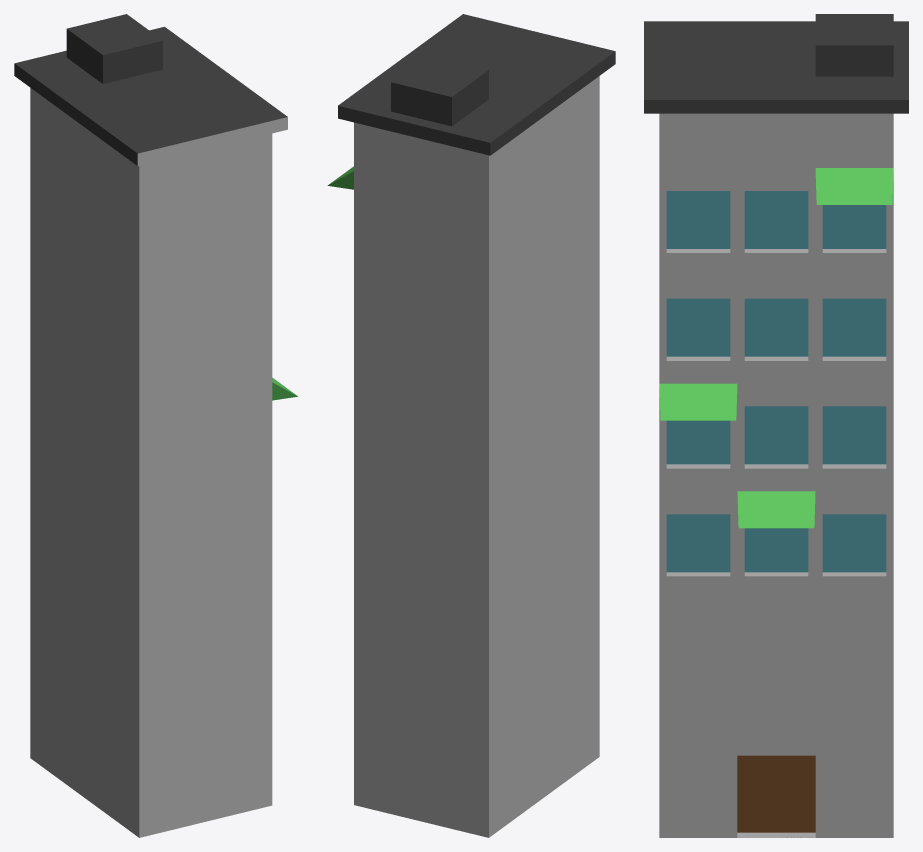
File: house_5.fbx
3 views of the same model, side by side, from view 1: azimuth 30°, elevation 25°; view 2: azimuth 150°, elevation 25°; view 3: azimuth 270°, elevation 25° (orthographic). The views are drawn at different scales.
Visible parts, largest first — view 1: Building1; view 2: Building1; view 3: Building1.
Boxes of the visible parts, box(x1,y1,x2,y2) form: Building1: box(14, 14, 297, 837); Building1: box(327, 14, 615, 837); Building1: box(644, 14, 908, 837).
Size of the model in its own units: 253 by 1036 by 321.
